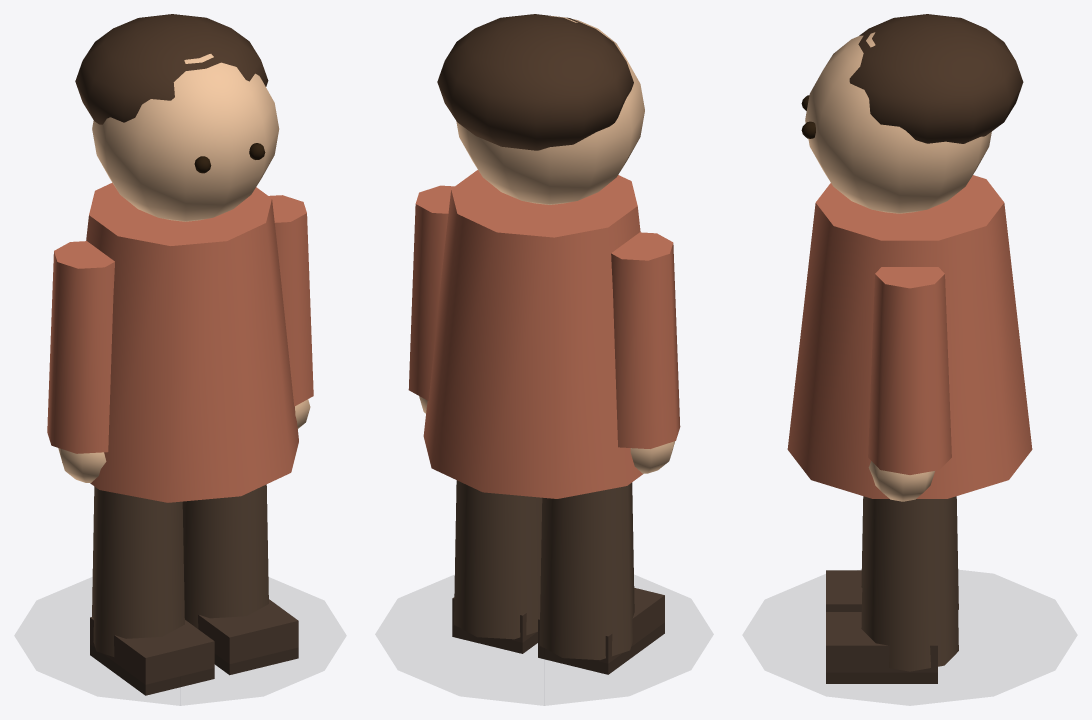
Rendered from villager-rust.glb.
The picture shows the model from 3 angles, left to right: view 1: azimuth 30°, elevation 25°; view 2: azimuth 150°, elevation 25°; view 3: azimuth 270°, elevation 25°; orthographic projection.
Size of the model in its own units: 0.96 by 1.95 by 0.96.
